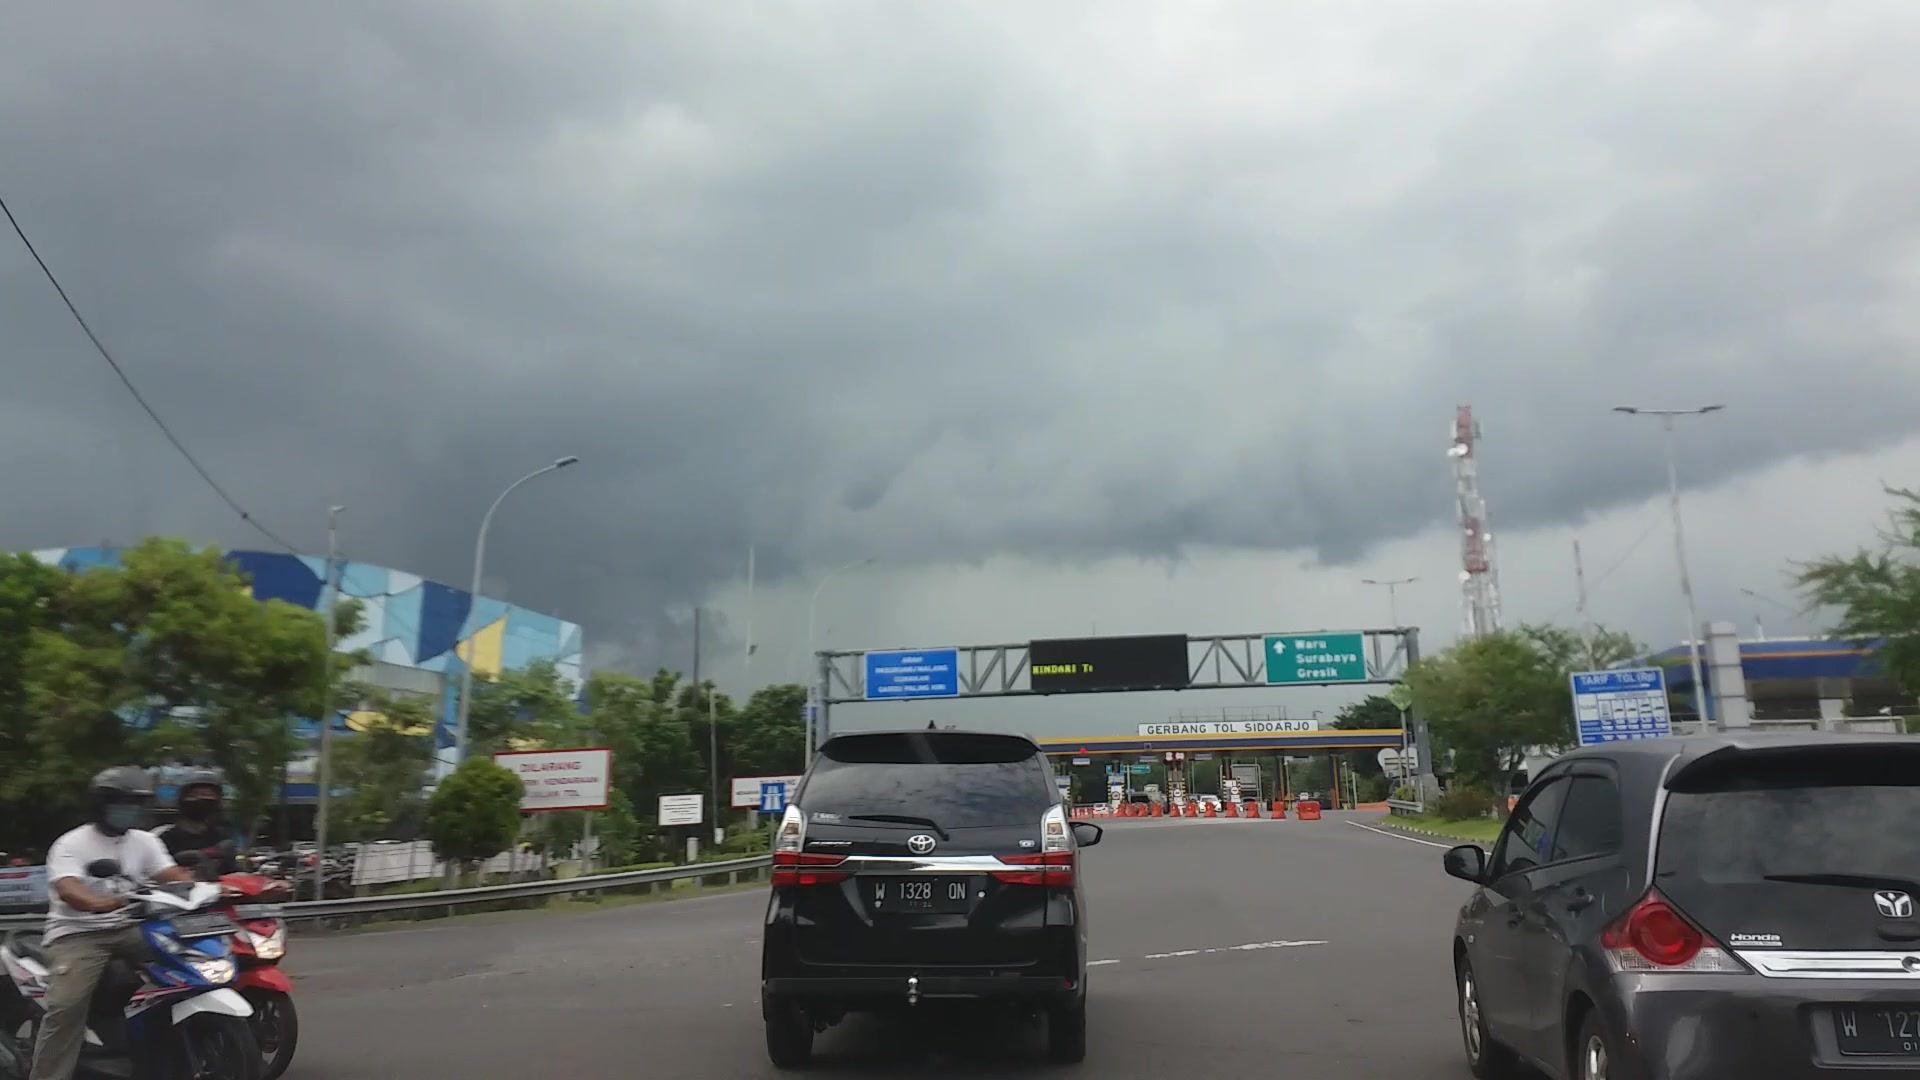plate_positive: (872, 877, 971, 914)
